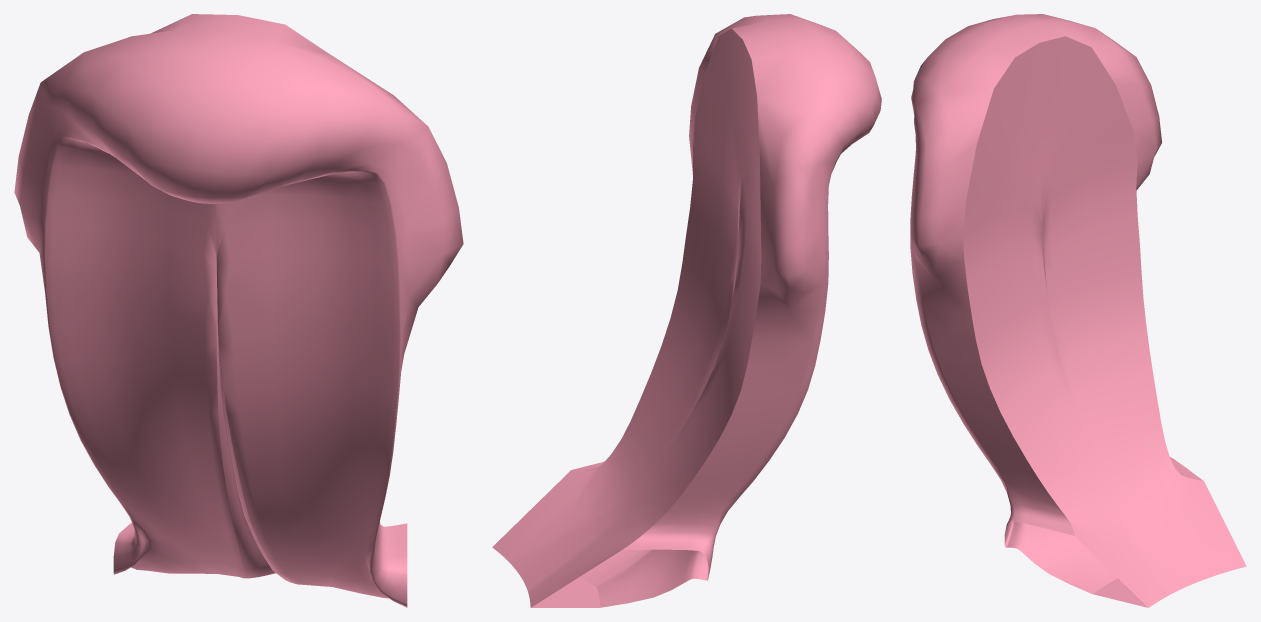
3 views of the same model, side by side, from view 1: azimuth 30°, elevation 25°; view 2: azimuth 150°, elevation 25°; view 3: azimuth 270°, elevation 25° (orthographic). The views are drawn at different scales.
Visible parts, largest first — view 1: Plane331; view 2: Plane331; view 3: Plane331.
Boxes of the visible parts, box(x1,y1,x2,y2) form: Plane331: box(14, 14, 463, 607); Plane331: box(492, 14, 881, 607); Plane331: box(910, 14, 1246, 607).
Bounding box in the file's own units: 0.1959 × 0.3085 × 0.1959.
